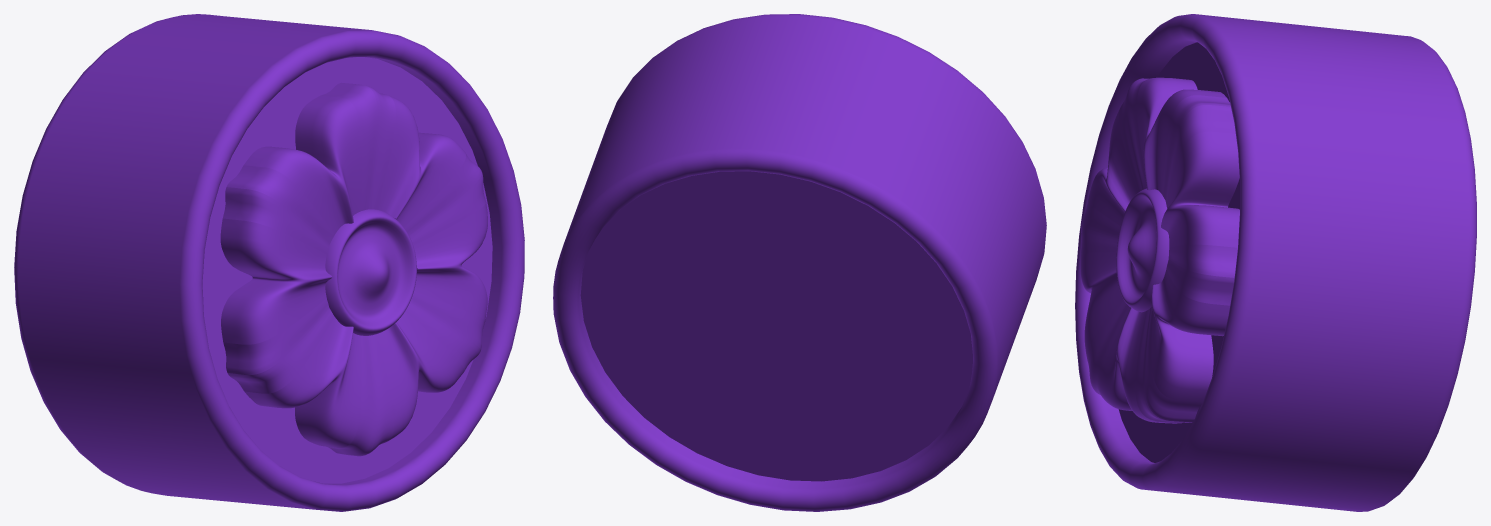
File: surmesure.glb
The picture shows the model from 3 angles, left to right: view 1: azimuth 30°, elevation 25°; view 2: azimuth 150°, elevation 25°; view 3: azimuth 270°, elevation 25°; orthographic projection. The views are drawn at different scales.
Visible parts, largest first — view 1: flower_; view 2: flower_; view 3: flower_.
Boxes of the visible parts, x1,y1,x2,y2 form: flower_: [14, 14, 524, 511]; flower_: [553, 14, 1046, 511]; flower_: [1075, 14, 1476, 511].
Size of the model in its own units: 0.0854 by 0.0846 by 0.0655.
